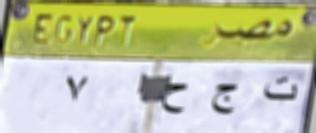7: (58, 70, 98, 105)
7aa: (159, 76, 190, 115)
jeem: (205, 80, 244, 118)
taa: (255, 74, 305, 104)
